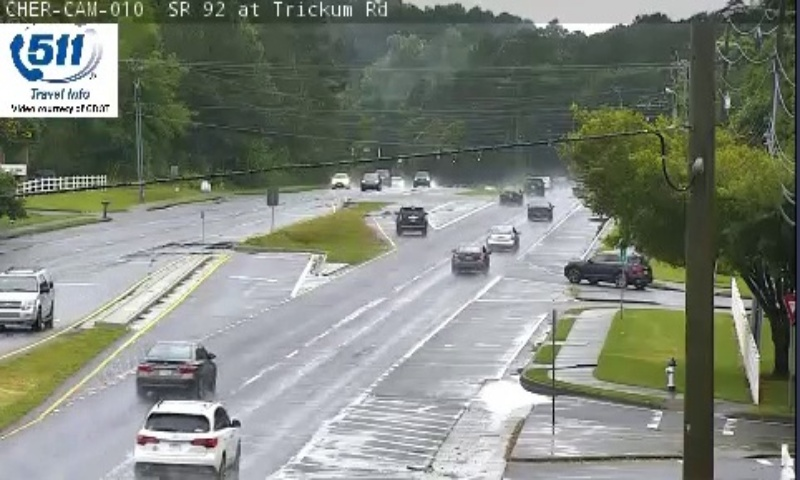car: (136, 400, 242, 474), (136, 341, 215, 391), (451, 245, 487, 272), (396, 205, 428, 232), (487, 227, 519, 250), (527, 202, 552, 223)
